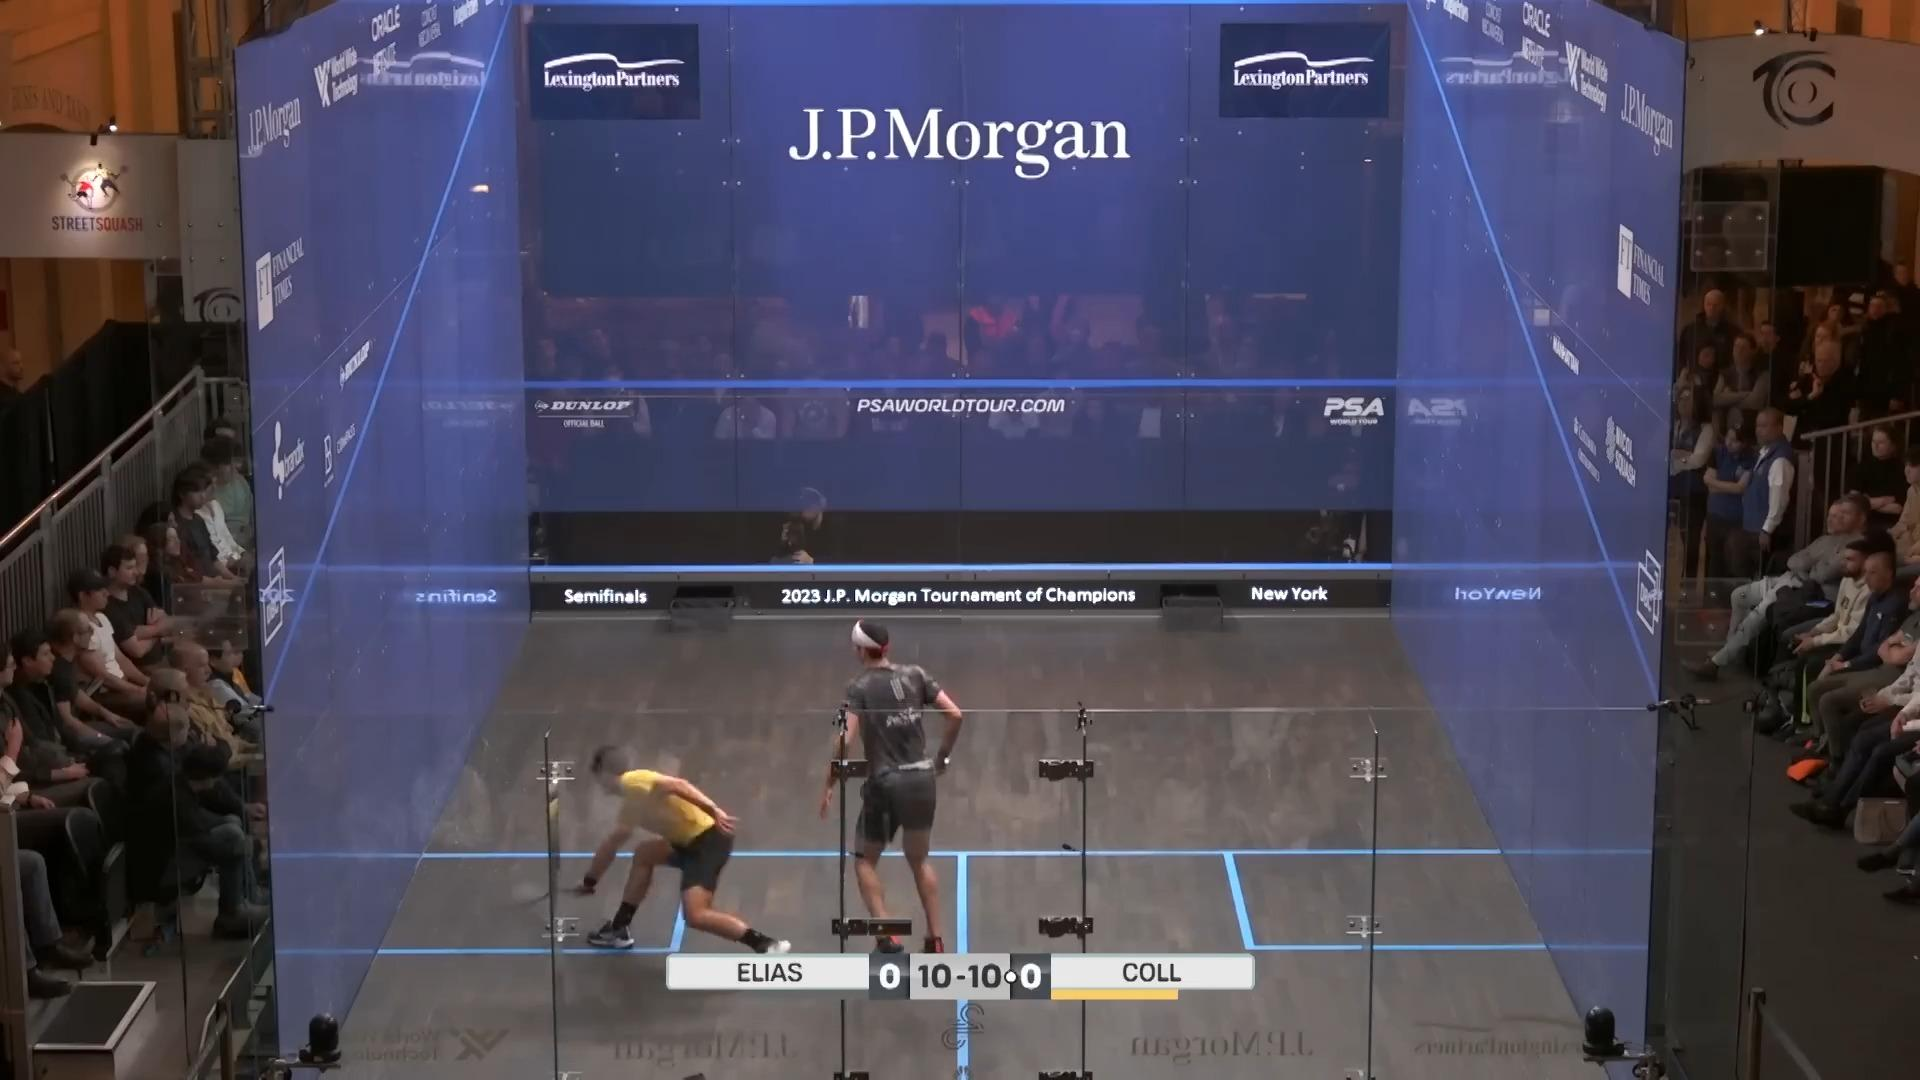Racket: (496, 868, 597, 915)
